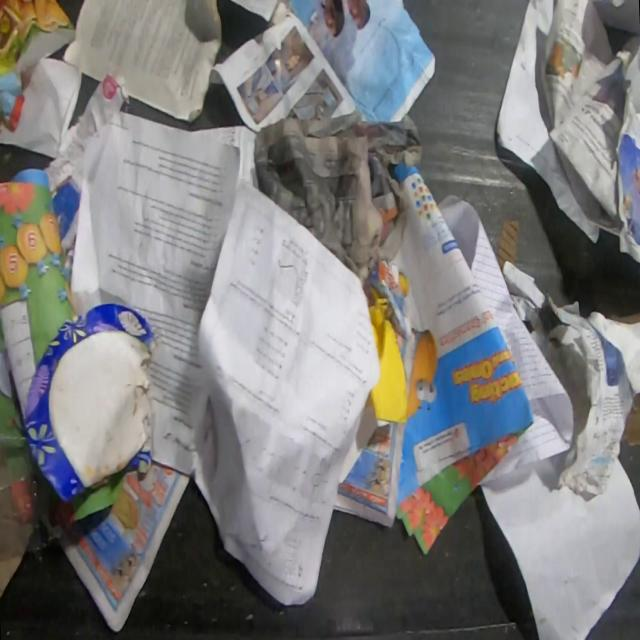cardboard: (22, 303, 157, 504), (0, 555, 23, 603)
soft_plastic: (0, 428, 64, 558)
